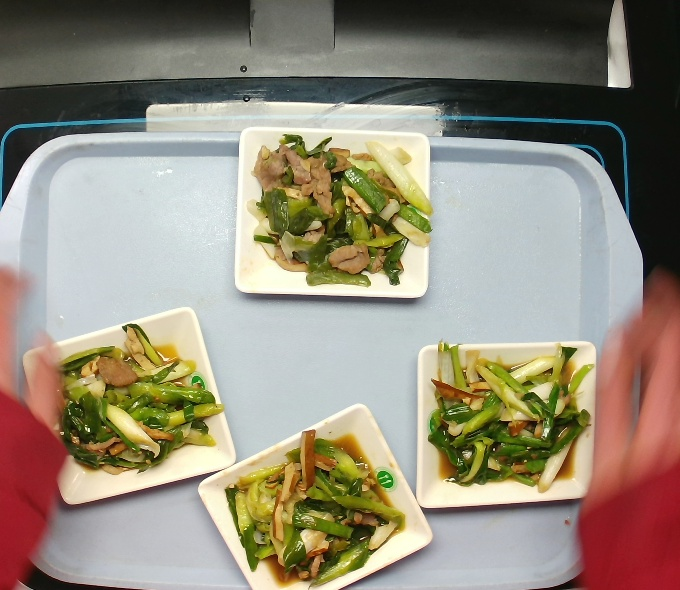wcq-SuanYeChaoRou: (240, 130, 438, 293), (219, 424, 412, 590), (31, 319, 228, 481), (422, 336, 599, 497)
